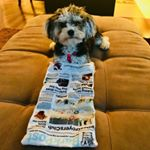puppy: (40, 4, 114, 57)
